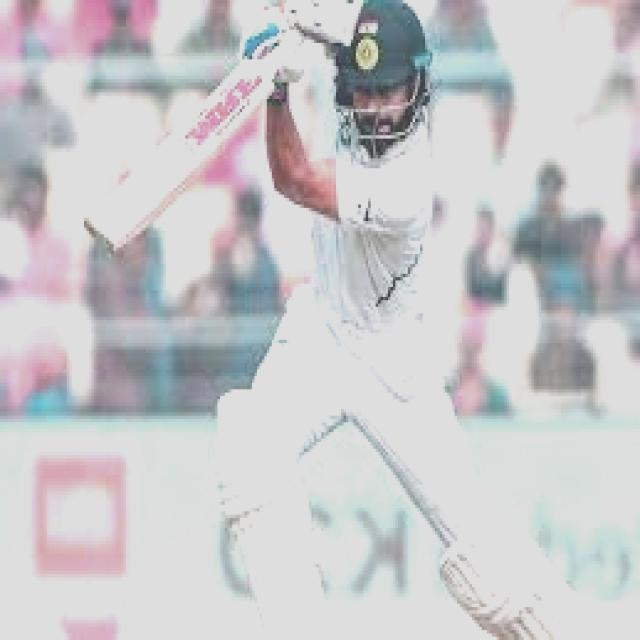toe: (68, 171, 166, 267)
